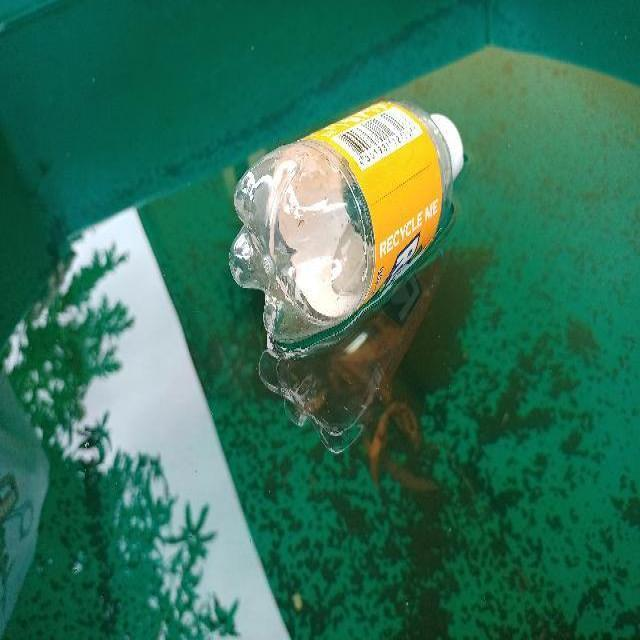Bottle: (222, 108, 468, 334)
